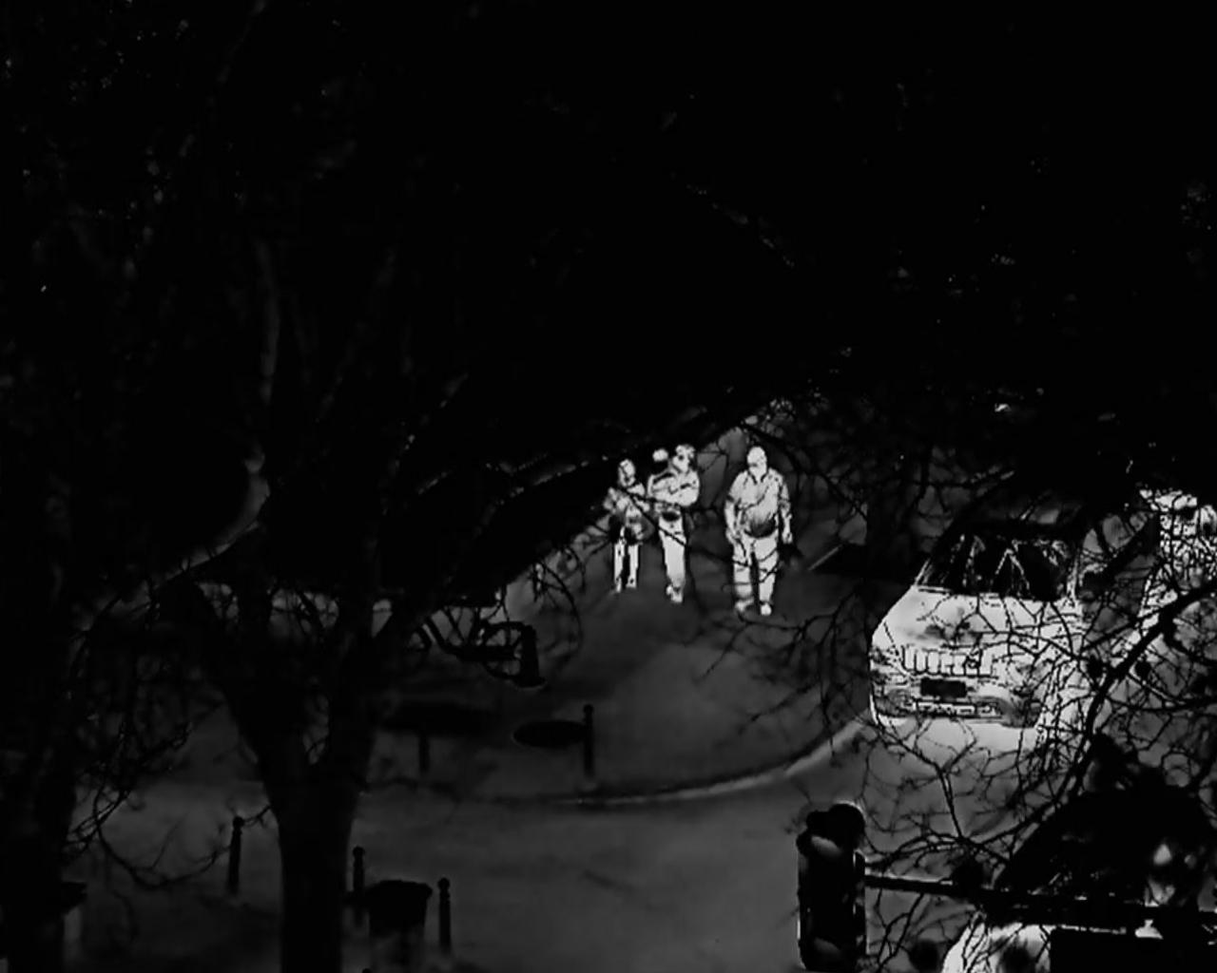person: (723, 444, 791, 620), (646, 443, 701, 604), (599, 457, 648, 596)
